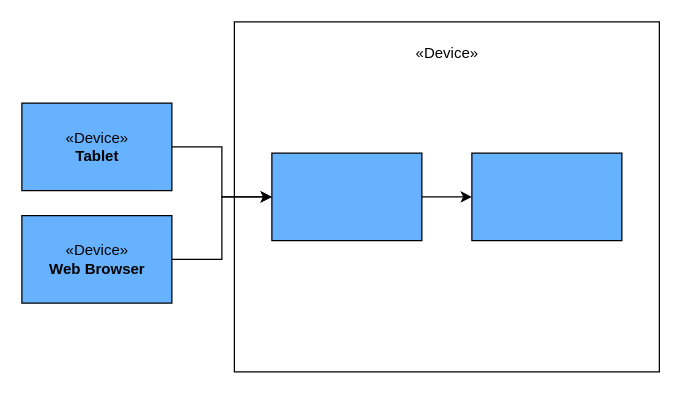
Image size: 681x394. Some labels were removed from this diagram. Here are the shapes that lost their labels. From the top down, the centre of each, then its label:
point 346,196: «Web Server» Web Application
point 546,196: «Database» Web Server
